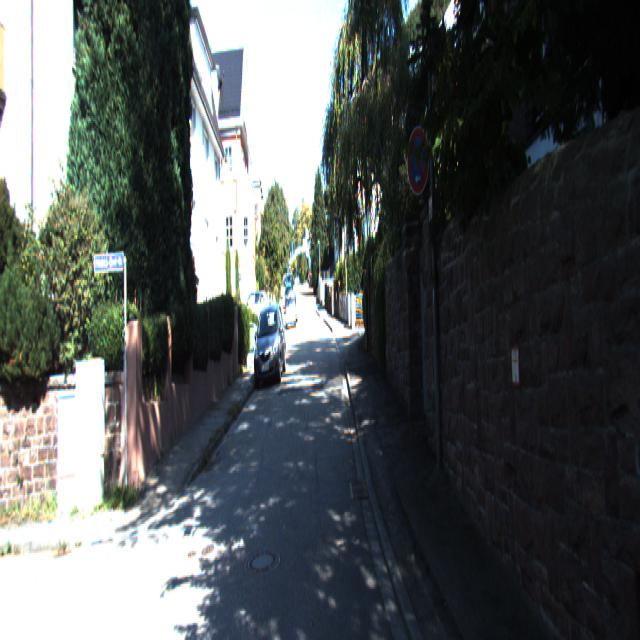Car: (252, 310, 288, 390)
